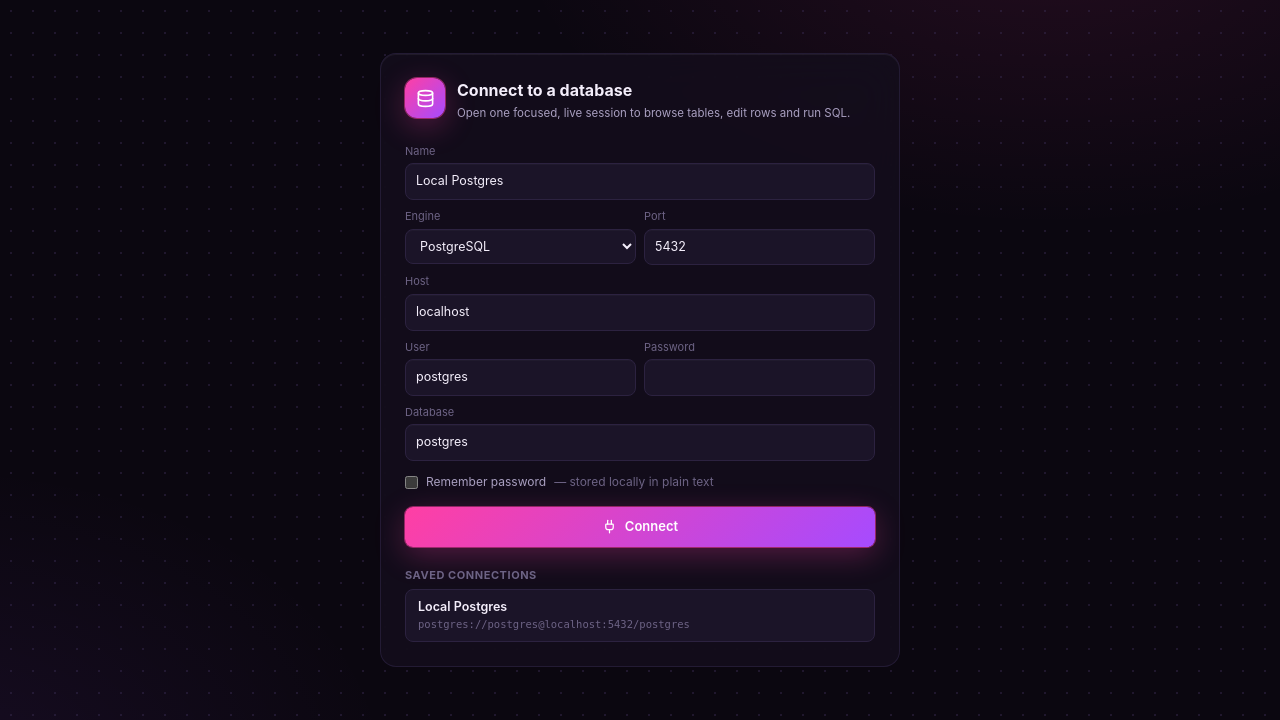
DatabasePanel connection lifecycle › closes a partially-opened session when initial table loading fails
This screenshot has width=1280, height=720.
Click the button "Connect". click: (640, 527)
box: [405,507,875,547]
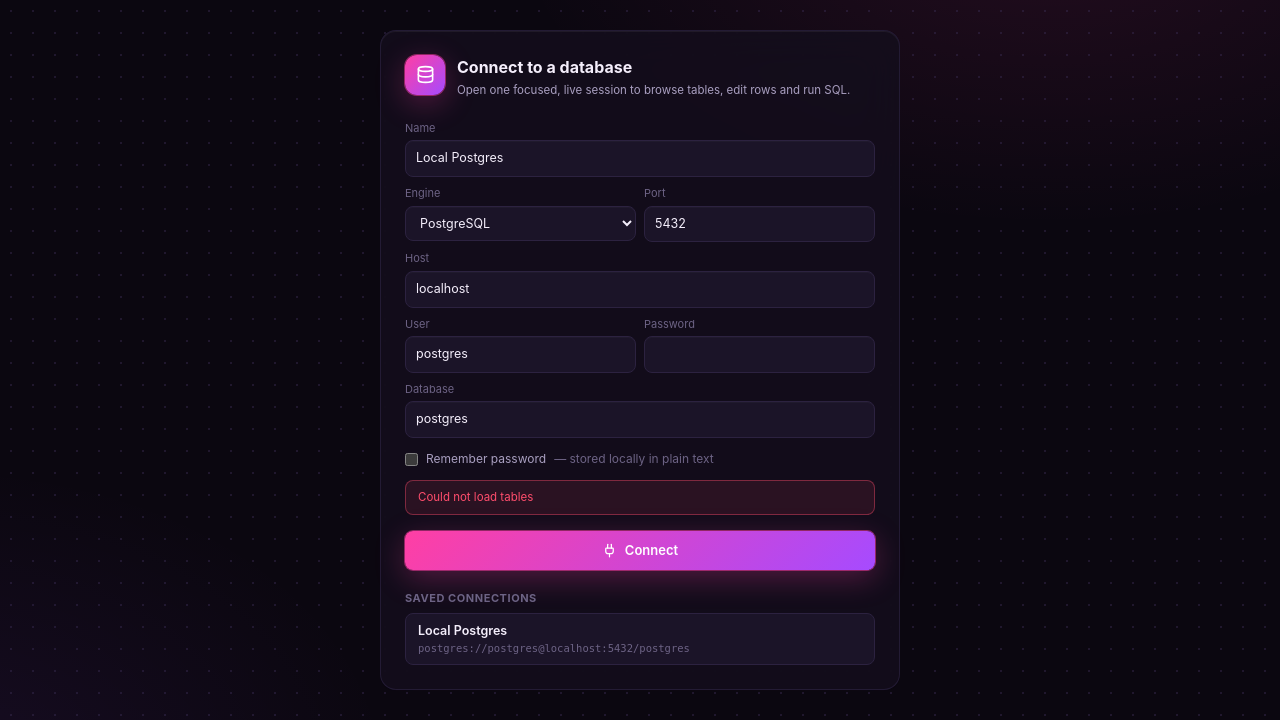
Expected: the button "Connect" is shown, [405,531,875,570]
Expected: the text "Could not load tables" is shown, [405,480,875,515]
